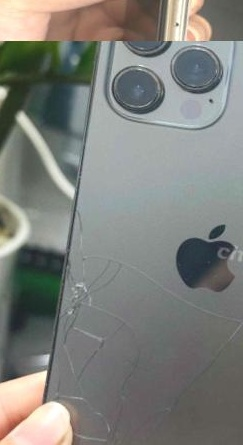physical_damage: (11, 179, 243, 445)
scratch: (115, 0, 231, 41)
